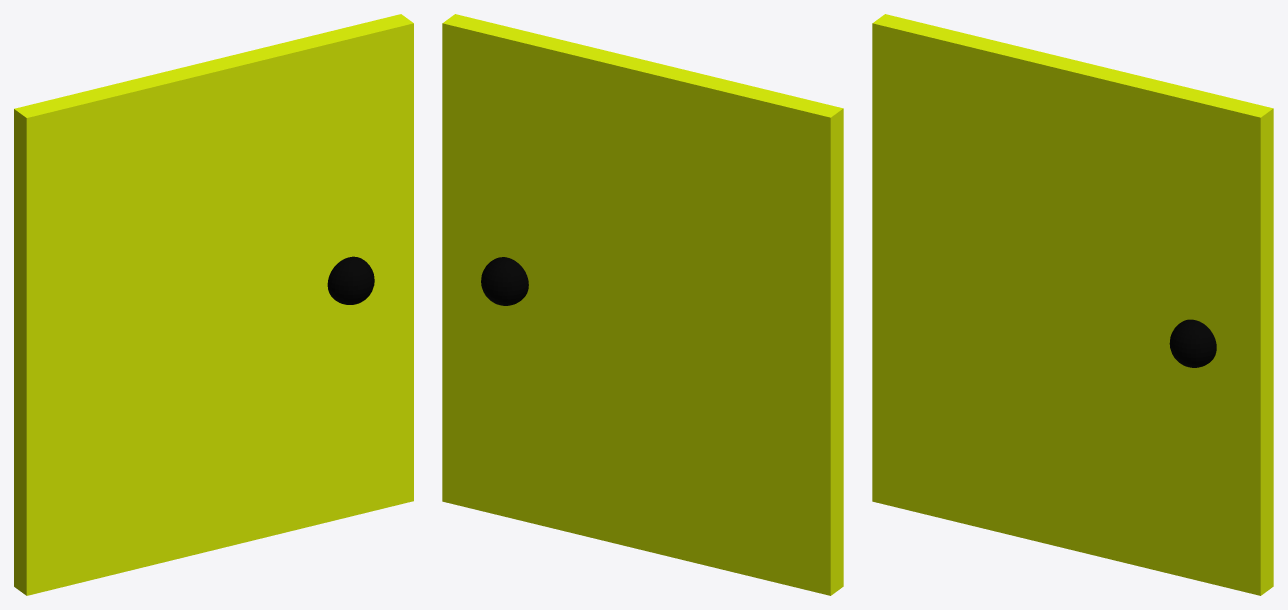
The model's file is door.fbx.
The picture shows the model from 3 angles, left to right: view 1: azimuth 30°, elevation 25°; view 2: azimuth 150°, elevation 25°; view 3: azimuth 330°, elevation 25°; orthographic projection.
Visible parts, largest first — view 1: door; view 2: door; view 3: door.
Boxes of the visible parts, x1,y1,x2,y2 form: door: [14, 14, 413, 595]; door: [442, 14, 843, 595]; door: [872, 14, 1273, 595].
Bounding box in the file's own units: 1762 × 2075 × 319.
